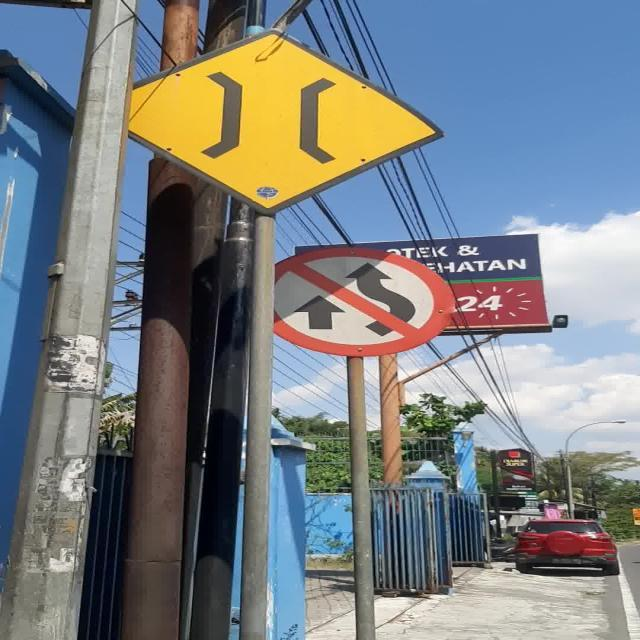Dilarang Mendahului: (276, 247, 455, 356)
